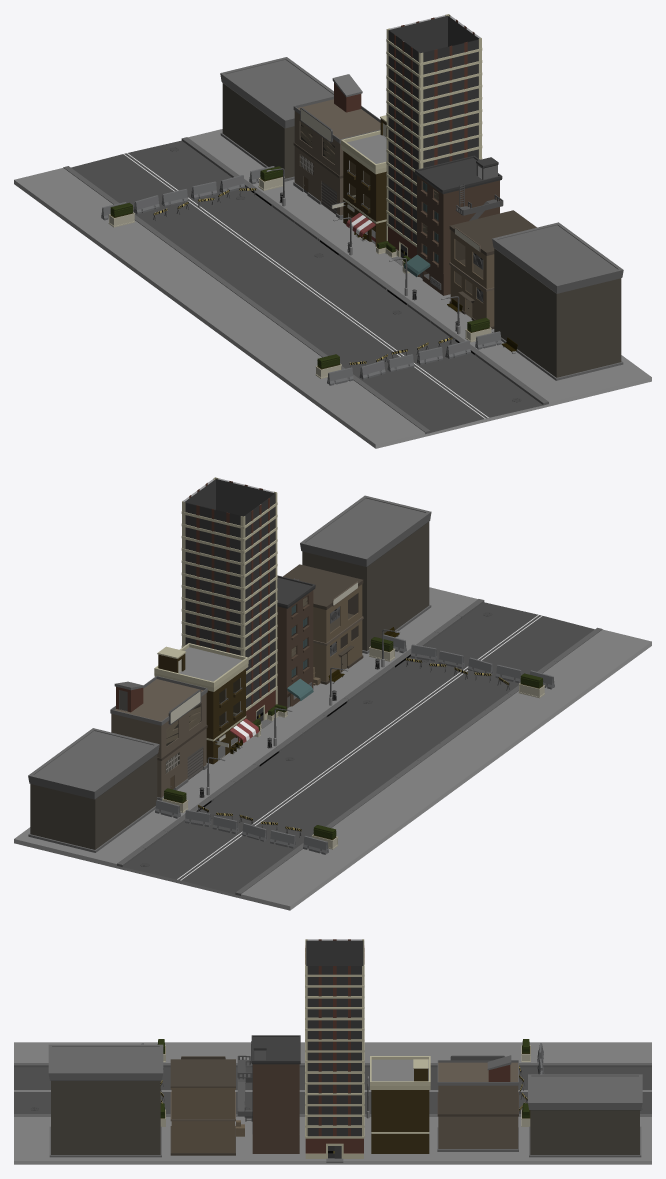
Rendered from AllAsOneV2.fbx.
The picture shows the model from 3 angles, top to bottom: view 1: azimuth 30°, elevation 25°; view 2: azimuth 150°, elevation 25°; view 3: azimuth 270°, elevation 25°; orthographic projection. The views are drawn at different scales.
Parts seen in each view (by area): view 1: Road1, Extras, NewApt, OldApt1, PawnShop1, LaundroMat, PharmCafe, ConcreteBarricades1, OuterPlants, ConcreteBarricades; view 2: Road1, Extras, NewApt, PawnShop1, PharmCafe, LaundroMat, OldApt1, ConcreteBarricades, ConcreteBarricades1, OuterPlants; view 3: Road1, Extras, NewApt, PawnShop1, LaundroMat, OldApt1, PharmCafe, OuterPlants.
Boxes of the visible parts, box(x1,y1,x2,y2) form: Road1: box(14, 129, 651, 448); Extras: box(220, 57, 623, 380); NewApt: box(386, 14, 482, 265); OldApt1: box(404, 155, 503, 295); PawnShop1: box(293, 74, 380, 218); LaundroMat: box(449, 210, 536, 329); PharmCafe: box(331, 115, 386, 246); ConcreteBarricades1: box(327, 331, 501, 385); OuterPlants: box(108, 166, 491, 378); ConcreteBarricades: box(101, 166, 274, 220); Road1: box(14, 587, 651, 910); Extras: box(28, 495, 431, 852); NewApt: box(181, 477, 277, 728); PawnShop1: box(110, 676, 207, 800); PharmCafe: box(154, 643, 259, 764); LaundroMat: box(283, 564, 363, 684); OldApt1: box(277, 575, 315, 709); ConcreteBarricades: box(155, 799, 328, 854); ConcreteBarricades1: box(382, 634, 554, 689); OuterPlants: box(162, 637, 544, 849); Road1: box(14, 1042, 651, 1164); Extras: box(48, 1044, 642, 1157); NewApt: box(305, 939, 364, 1162); PawnShop1: box(437, 1055, 518, 1151); LaundroMat: box(170, 1056, 235, 1155); OldApt1: box(237, 1035, 300, 1153); PharmCafe: box(370, 1056, 430, 1153); OuterPlants: box(157, 1039, 530, 1126).
Bounding box in the file's own units: 30.11 × 23.07 × 67.75.
